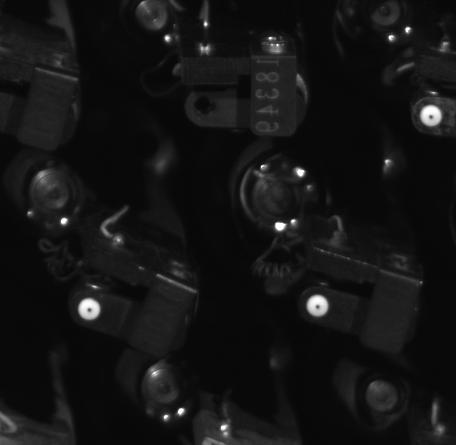fiber: (69, 291, 104, 324), (300, 289, 336, 320), (417, 101, 449, 134)
